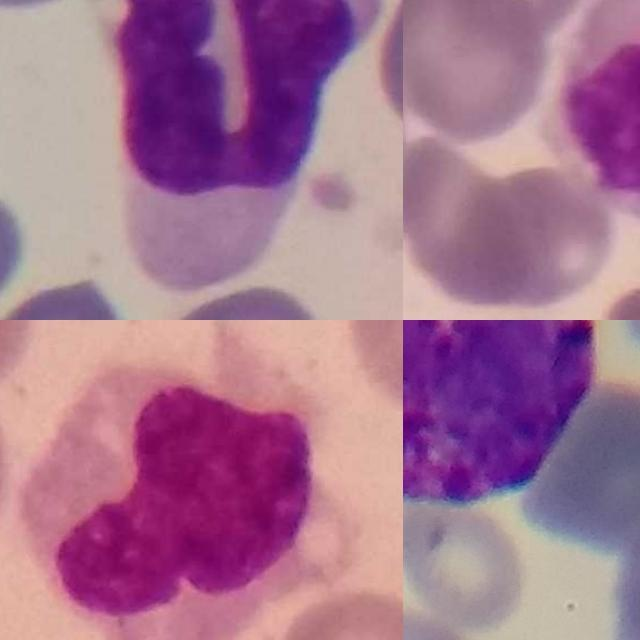Basophil: (403, 320, 600, 508)
Monocyte: (21, 364, 348, 640), (96, 0, 386, 294), (555, 0, 640, 226)
